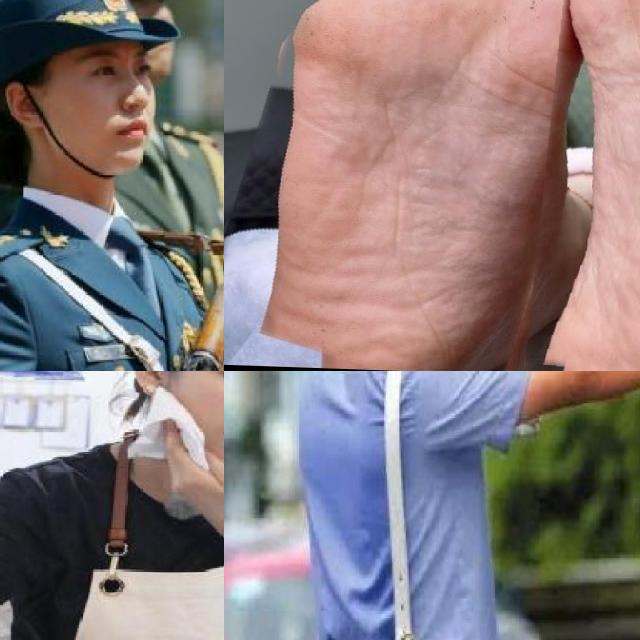Barefoots: (228, 0, 615, 371), (534, 0, 640, 371)
No_Ear-Protection: (130, 371, 159, 398)
face_nomask: (53, 43, 165, 171), (191, 371, 224, 458)
hand_noglove: (158, 420, 224, 518)
person: (266, 371, 635, 640), (0, 0, 224, 371), (0, 371, 224, 640)
